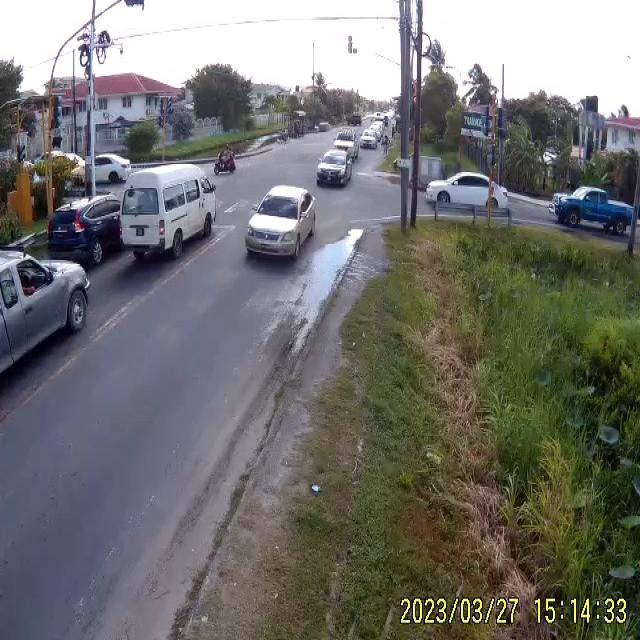car: (1, 248, 92, 430), (118, 165, 216, 261), (45, 195, 124, 269), (245, 185, 318, 258), (553, 190, 634, 234), (426, 172, 508, 208), (316, 150, 353, 188), (88, 154, 131, 184)
motorbike: (216, 150, 237, 174)
